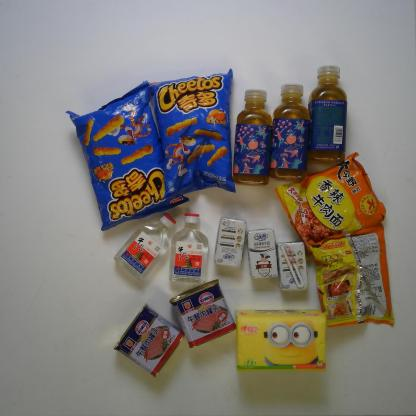Alcohol: (112, 212, 177, 281), (168, 214, 209, 285)
Canned Food: (112, 301, 185, 379), (168, 277, 236, 348)
Drink: (304, 64, 349, 168), (267, 83, 311, 183), (232, 88, 273, 188)
Instant Noodles: (274, 150, 387, 247), (308, 222, 394, 330)
Milk: (275, 241, 309, 294), (213, 217, 247, 269), (247, 228, 279, 280)
Puffed Food: (63, 79, 189, 232), (148, 67, 237, 199)
Tissue: (234, 306, 327, 373)
